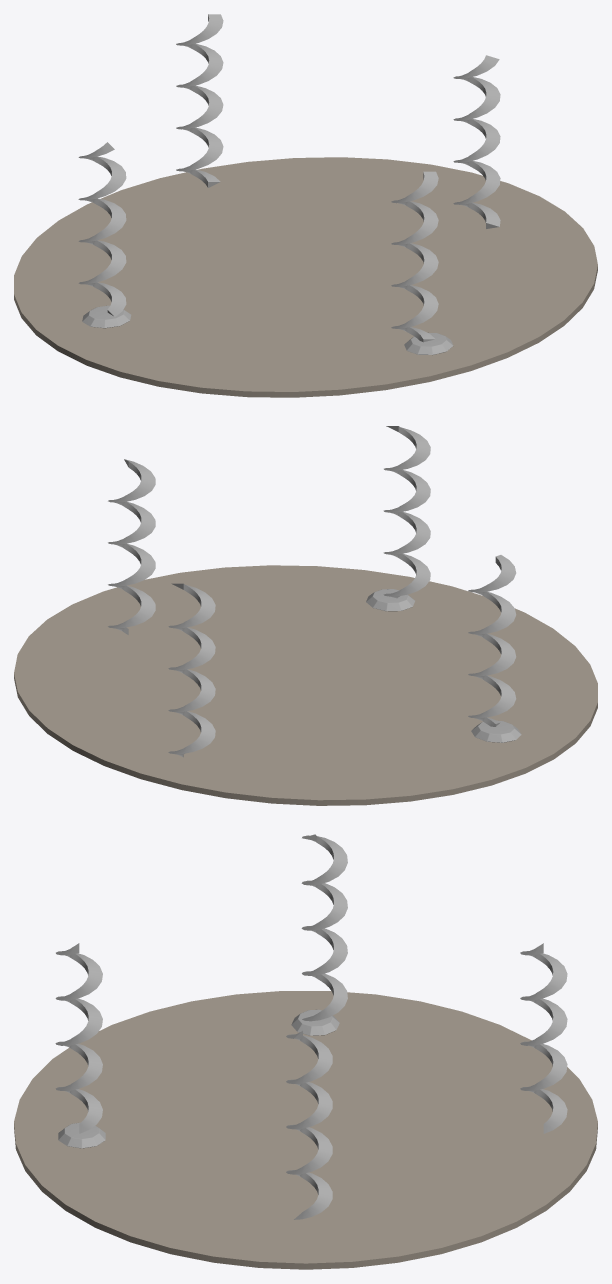
The model's file is lampcenter.fbx.
3 renders of one model, top to bottom at view 1: azimuth 30°, elevation 25°; view 2: azimuth 150°, elevation 25°; view 3: azimuth 270°, elevation 25°, orthographic. The views are drawn at different scales.
Parts seen in each view (by area): view 1: pCylinder2, pHelix6, pHelix3, pHelix4, pHelix5, pCylinder7, pCylinder8; view 2: pCylinder2, pHelix6, pHelix5, pHelix3, pHelix4, pCylinder7, pCylinder8; view 3: pCylinder2, pHelix4, pHelix3, pHelix5, pHelix6, pCylinder8, pCylinder7.
Part boxes in pixels (x1,y1,x2,y2): pCylinder2: [14, 157, 597, 397]; pHelix6: [176, 14, 223, 187]; pHelix3: [453, 55, 500, 228]; pHelix4: [78, 142, 126, 316]; pHelix5: [391, 171, 438, 342]; pCylinder7: [82, 305, 131, 328]; pCylinder8: [404, 332, 453, 355]; pCylinder2: [14, 565, 597, 805]; pHelix6: [168, 583, 215, 757]; pHelix5: [383, 426, 430, 598]; pHelix3: [108, 459, 155, 634]; pHelix4: [468, 555, 516, 726]; pCylinder7: [471, 720, 521, 742]; pCylinder8: [366, 589, 414, 611]; pCylinder2: [14, 991, 597, 1269]; pHelix4: [301, 834, 347, 1021]; pHelix3: [286, 1031, 332, 1219]; pHelix5: [55, 943, 102, 1133]; pHelix6: [520, 943, 567, 1133]; pCylinder8: [58, 1122, 105, 1148]; pCylinder7: [291, 1009, 339, 1035].
Size of the model in its own units: 210 by 71.63 by 190.
